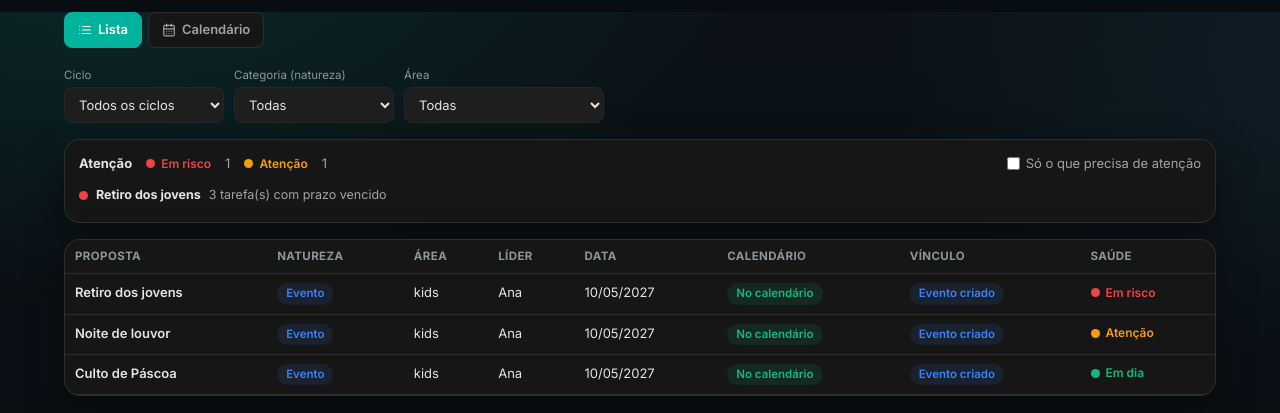
Test case: Execução · farol de saúde › mostra o farol em texto, o painel de atenção e filtra só o que precisa
This screenshot has width=1280, height=413.
Expected: the text "Em risco" is shown, [146, 154, 211, 172]
Expected: the text "Em dia" is shown, [1090, 364, 1144, 382]
Click the checkbox labelled "Só o que precisa de atenção" at (1013, 164), box [1007, 157, 1020, 170]
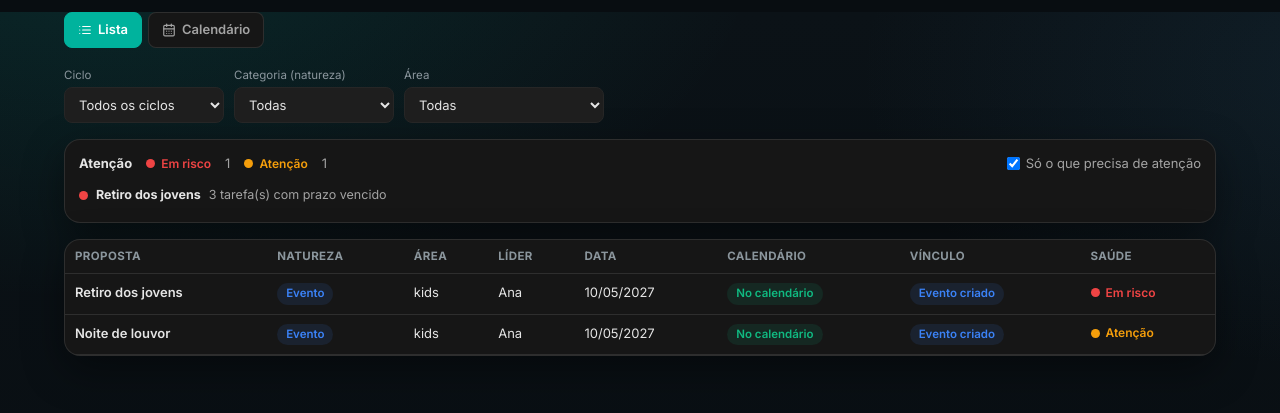
Expected: the text "Retiro dos jovens" is shown, [96, 186, 201, 205]
Now the text "Culto de Páscoa" is gone
